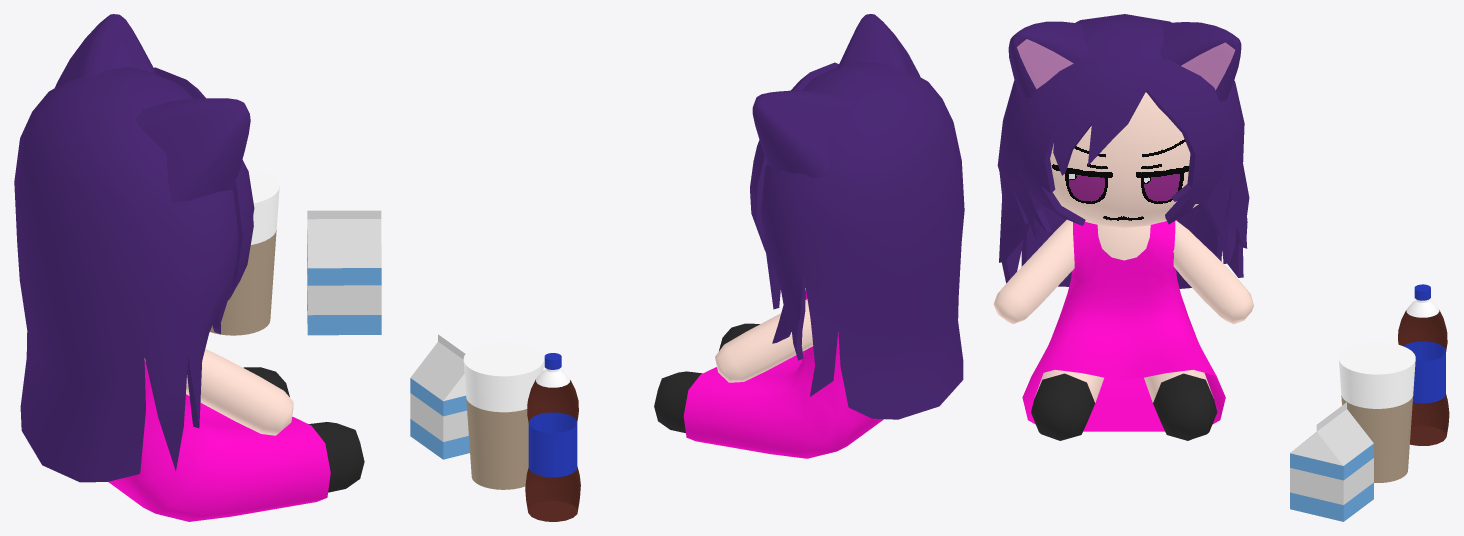
Rendered from fumo.gltf.
3 views of the same model, side by side, from view 1: azimuth 30°, elevation 25°; view 2: azimuth 150°, elevation 25°; view 3: azimuth 270°, elevation 25° (orthographic). The views are drawn at different scales.
Parts seen in each view (by area): view 1: Cube.007, Plane, Cube.010, Cube.008, Circle, Cube.003, Cube.009, Cube, Cube.006, Cube.004; view 2: Cube.007, Plane, Circle, Circle.001, Cube.009, Cube.010, Cube.005, Cube.008, Cube.004, Cube.006; view 3: Plane, Cube.006, Cube.007, Cube.002, Circle, Cube.010, Circle.001, Cube.008, Cube.009, Cube.003, Cube.005, Cube.004 (+2 smaller).
Part boxes in pixels (bbox=[...]): Cube.007: bbox=[14, 66, 238, 482]; Plane: bbox=[108, 360, 330, 521]; Cube.010: bbox=[307, 210, 381, 335]; Cube.008: bbox=[135, 98, 250, 202]; Circle: bbox=[210, 167, 279, 335]; Cube.003: bbox=[144, 349, 293, 435]; Cube.009: bbox=[55, 14, 155, 87]; Cube: bbox=[309, 422, 364, 492]; Cube.006: bbox=[154, 67, 254, 300]; Cube.004: bbox=[243, 367, 289, 396]; Cube.007: bbox=[761, 61, 964, 419]; Plane: bbox=[683, 290, 883, 458]; Circle: bbox=[463, 342, 543, 489]; Circle.001: bbox=[525, 353, 580, 521]; Cube.009: bbox=[752, 90, 854, 177]; Cube.010: bbox=[410, 334, 469, 459]; Cube.005: bbox=[715, 299, 813, 382]; Cube.008: bbox=[838, 14, 920, 76]; Cube.004: bbox=[654, 371, 702, 433]; Cube.006: bbox=[750, 62, 838, 252]; Plane: bbox=[1022, 220, 1225, 431]; Cube.006: bbox=[1013, 55, 1228, 225]; Cube.007: bbox=[997, 14, 1249, 288]; Cube.002: bbox=[1050, 92, 1198, 227]; Circle: bbox=[1339, 342, 1415, 482]; Cube.010: bbox=[1290, 402, 1373, 521]; Circle.001: bbox=[1398, 284, 1449, 445]; Cube.008: bbox=[1008, 21, 1089, 99]; Cube.009: bbox=[1160, 22, 1241, 102]; Cube.003: bbox=[993, 219, 1074, 323]; Cube.005: bbox=[1173, 220, 1253, 324]; Cube.004: bbox=[1144, 369, 1217, 440].
Bounding box in the file's own units: 1.49 × 1.3 × 1.48.
12 materials, 1 textured.
